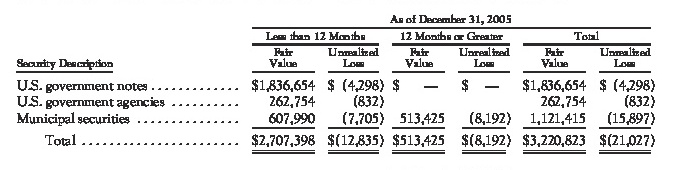table: (0, 0, 673, 170)
